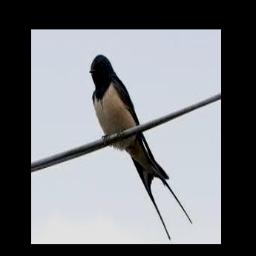Swallow: (89, 55, 192, 239)
